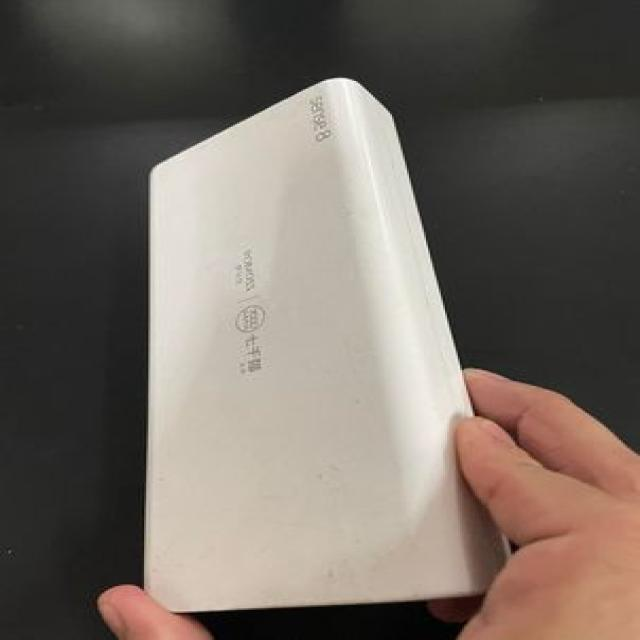portable-charger: (129, 72, 522, 623)
